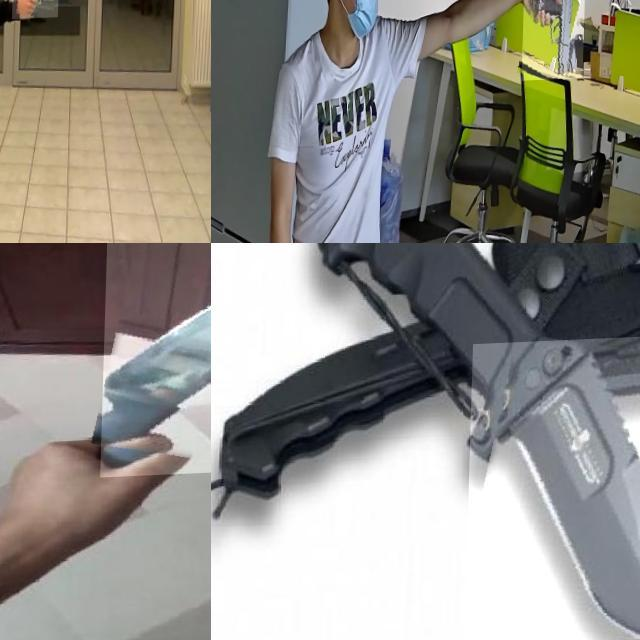-: (467, 338, 640, 640), (102, 243, 211, 479)
gun-knife-thesis - v11 Yolov5 augmented: (524, 0, 587, 85), (14, 0, 61, 22)
